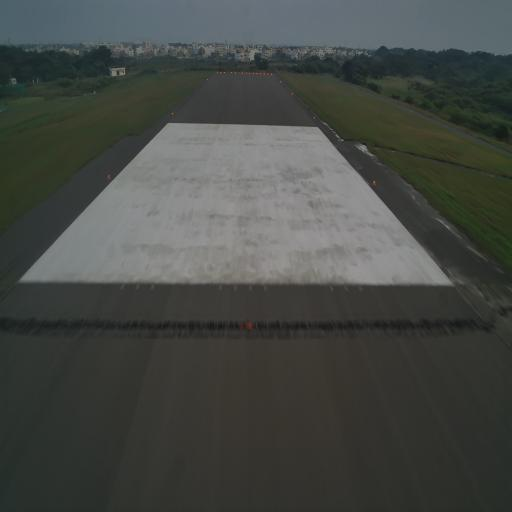off: (134, 280, 141, 292), (217, 282, 224, 294), (343, 283, 350, 294), (149, 281, 155, 292), (328, 283, 334, 294), (358, 285, 364, 295), (233, 283, 238, 293), (248, 282, 253, 292), (263, 284, 268, 294), (120, 284, 126, 292)
on: (106, 173, 112, 181), (372, 178, 376, 186)
